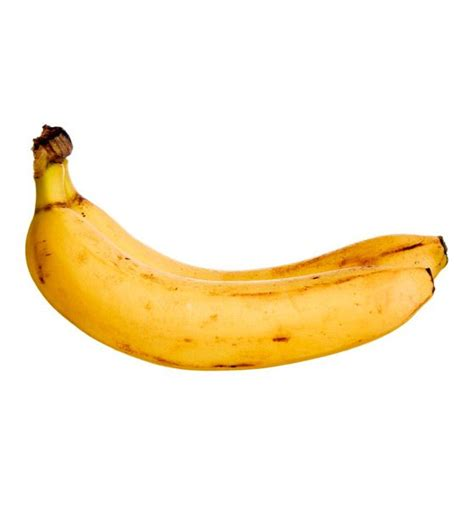banana: (18, 192, 439, 375)
